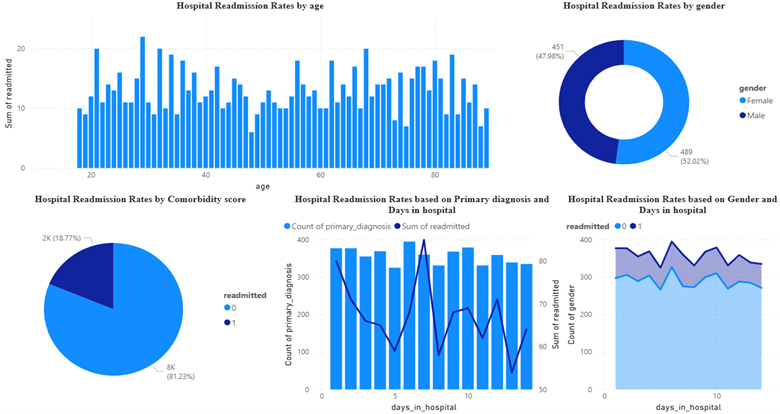

Layout of this report page (visuals, bound fields, positions):
{"tool":"powerbi","page":{"name":"Page 1","canvas":[1280,720],"ordinal":0},"visuals":[{"type":"clusteredColumnChart","title":"Hospital Readmission Rates by age","fields":{"Y":["Sum(HRR.readmitted)"],"Category":["HRR.age"]},"box":[10.2,13.1,811.4,329.5],"z":0},{"type":"pieChart","title":"Hospital Readmission Rates by Comorbidity score","fields":{"Y":["Sum(HRR.comorbidity_score)"],"Category":["HRR.readmitted"]},"box":[10.2,342.6,454.3,377.4],"z":1},{"type":"donutChart","title":"Hospital Readmission Rates by gender","fields":{"Category":["HRR.gender"],"Y":["Sum(HRR.readmitted)"]},"box":[831.8,13.1,448.5,329.5],"z":2},{"type":"lineStackedColumnComboChart","title":"Hospital Readmission Rates based on Primary diagnosis and Days in hospital","fields":{"Y2":["Sum(HRR.readmitted)"],"Category":["HRR.days_in_hospital"],"Y":["CountNonNull(HRR.primary_diagnosis)"]},"box":[464.5,342.6,460.2,377.4],"z":3},{"type":"stackedAreaChart","title":"Hospital Readmission Rates based on Gender and Days in hospital","fields":{"Series":["HRR.readmitted"],"Category":["HRR.days_in_hospital"],"Y":["CountNonNull(HRR.gender)"]},"box":[924.7,342.6,355.6,377.4],"z":4}]}

Visuals, with their boxes in screenshot pixels (x1, y1, x2, y2):
"Hospital Readmission Rates by age" clusteredColumnChart: <bbox>0, 6, 441, 200</bbox>
"Hospital Readmission Rates by Comorbidity score" pieChart: <bbox>0, 200, 231, 413</bbox>
"Hospital Readmission Rates by gender" donutChart: <bbox>447, 6, 711, 200</bbox>
"Hospital Readmission Rates based on Primary diagnosis and Days in hospital" lineStackedColumnComboChart: <bbox>231, 200, 501, 413</bbox>
"Hospital Readmission Rates based on Gender and Days in hospital" stackedAreaChart: <bbox>501, 200, 711, 413</bbox>
